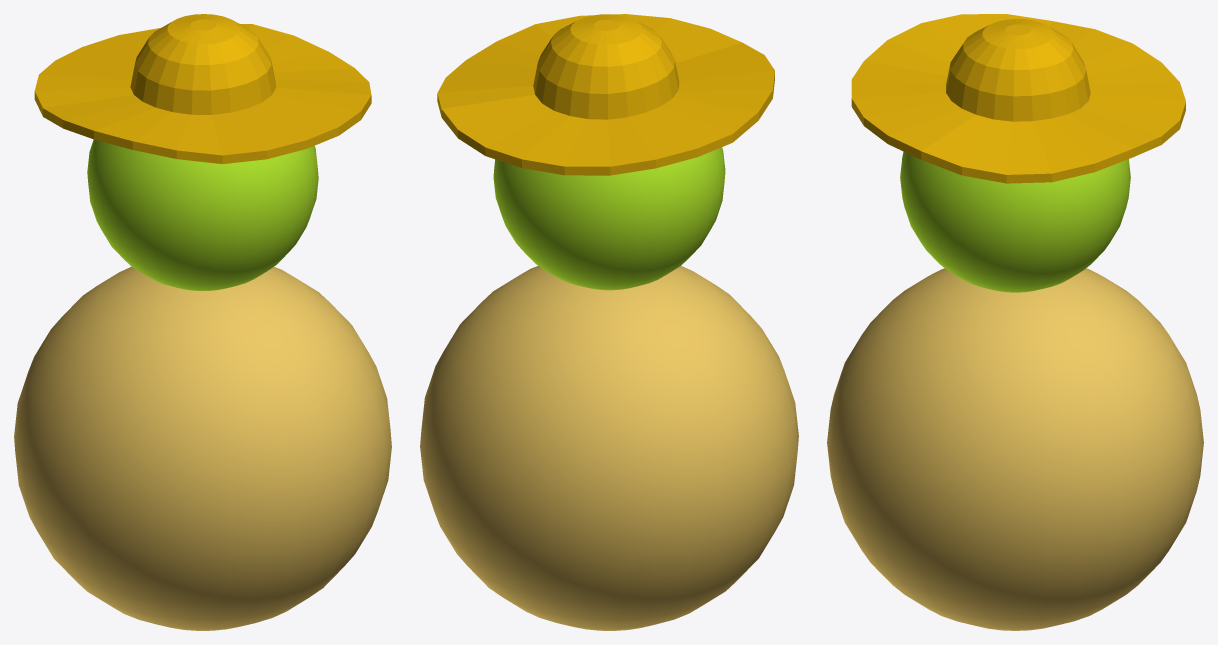
Rendered from cika 1.fbx.
3 renders of one model, left to right at view 1: azimuth 30°, elevation 25°; view 2: azimuth 150°, elevation 25°; view 3: azimuth 270°, elevation 25°, orthographic.
Visible parts, largest first — view 1: Sphere.002; view 2: Sphere.002; view 3: Sphere.002.
Boxes of the visible parts, x1=… form: Sphere.002: x1=14, y1=14, x2=391, y2=630; Sphere.002: x1=420, y1=14, x2=798, y2=630; Sphere.002: x1=827, y1=14, x2=1203, y2=630.
Size of the model in its own units: 183 by 313 by 183.
